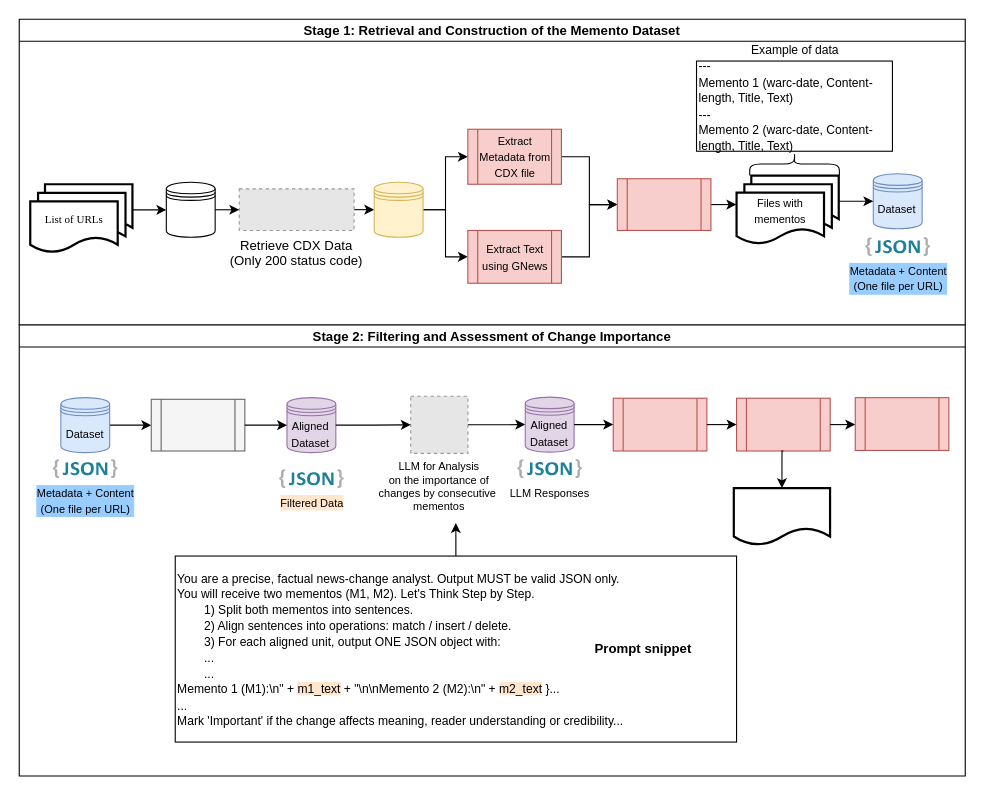
Some shapes in this 985 by 795 pixel diagram are drawn without their labels. Grey dashed boxes stand in for pictures. The shapes that lost their labels are listed below. From the top down, each one's centre as x and y in pixels, then its label:
(x=190, y=209): URLs Collection
(x=398, y=209): CDX Files
(x=663, y=204): Merge Metadata and Content
(x=197, y=424): Lexical Comparison and filter
(x=659, y=424): Manual Validation of Results
(x=782, y=424): Creation of Taxonomy
(x=901, y=423): Visualization of Results
(x=781, y=516): Taxonomy of Important Changes
